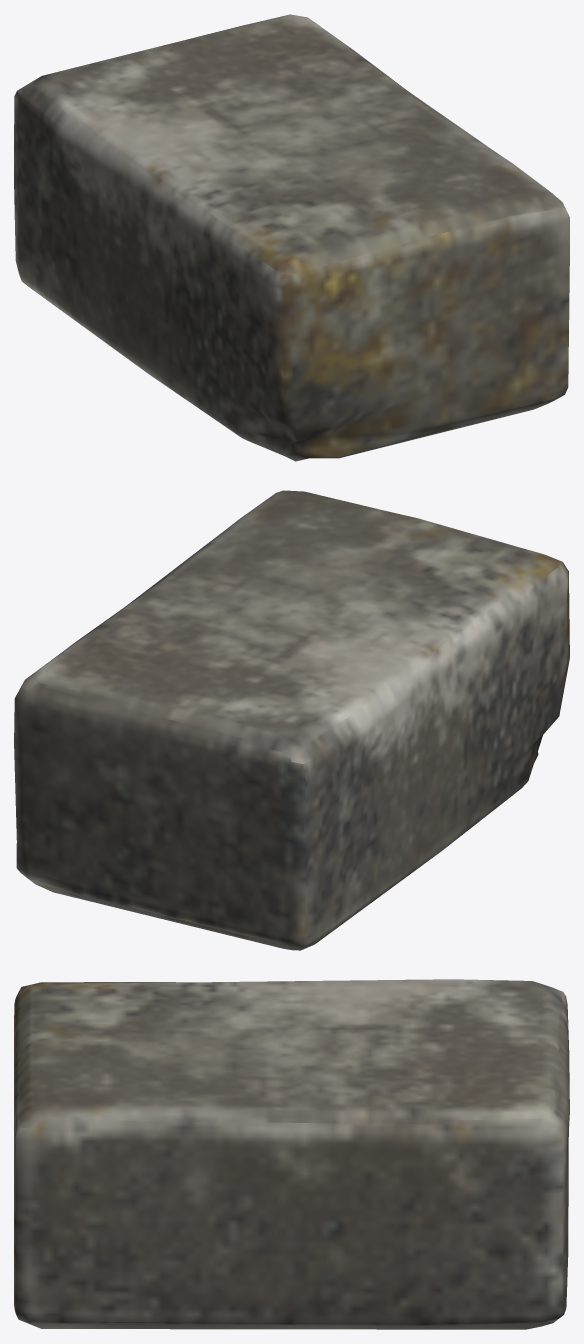
File: SM_Cemetery09.fbx
3 views of the same model, one above another, from view 1: azimuth 30°, elevation 25°; view 2: azimuth 150°, elevation 25°; view 3: azimuth 270°, elevation 25° (orthographic). The views are drawn at different scales.
Parts seen in each view (by area): view 1: SM_Cemetery09_LOD0; view 2: SM_Cemetery09_LOD0; view 3: SM_Cemetery09_LOD0.
Boxes of the visible parts, box(x1,y1,x2,y2) form: SM_Cemetery09_LOD0: box(14, 14, 569, 461); SM_Cemetery09_LOD0: box(14, 490, 569, 950); SM_Cemetery09_LOD0: box(14, 979, 569, 1329).
Bounding box in the file's own units: 64.48 × 100 × 45.38.
